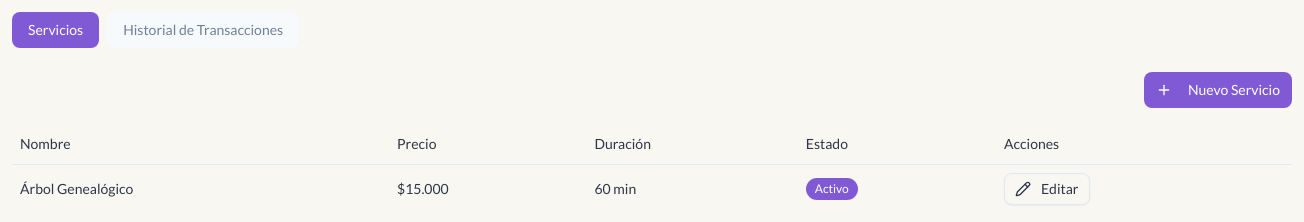
Test: HolisticServicesManagement › should show error state when transactions fetch fails
The image size is (1304, 222).
Click the tab "Historial de Transacciones".
click(203, 30)  # box x1=107 y1=12 x2=299 y2=48
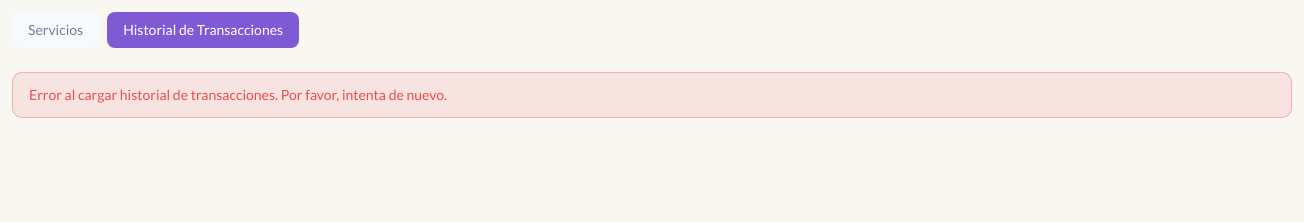
Expected: the text "Error al cargar historial" is shown, x1=29 y1=86 x2=447 y2=103
